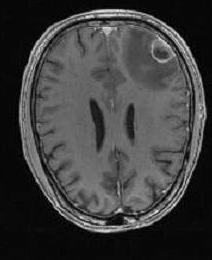Normal_Brain: (1, 1, 212, 260)
